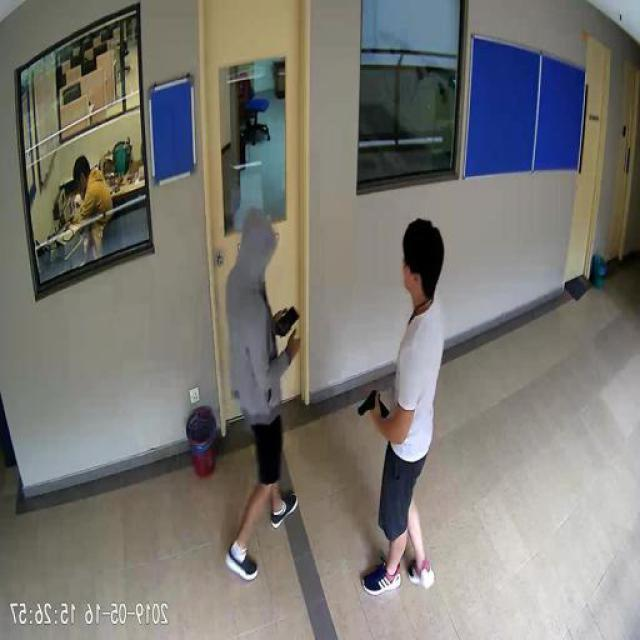weapon: (356, 388, 392, 420)
